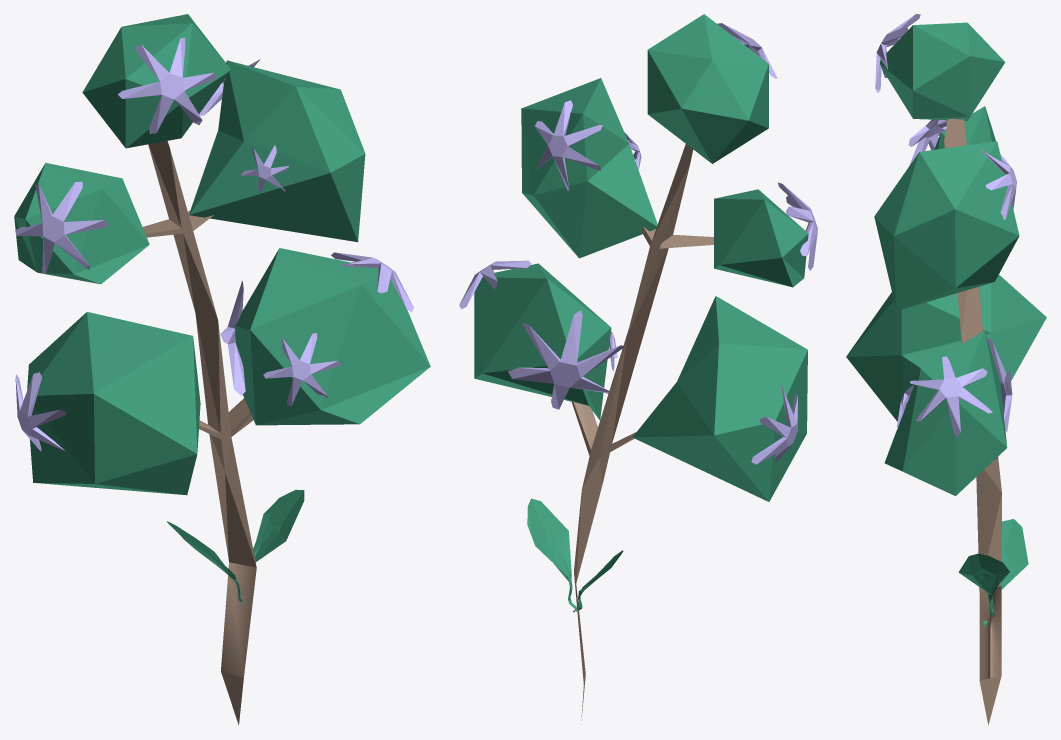
File: opt_Rosemary_Flower.fbx
3 views of the same model, side by side, from view 1: azimuth 30°, elevation 25°; view 2: azimuth 150°, elevation 25°; view 3: azimuth 270°, elevation 25° (orthographic). The views are drawn at different scales.
Visible parts, largest first — view 1: pPlane1; view 2: pPlane1; view 3: pPlane1.
Part boxes in pixels (left/top/right/bottom): pPlane1: left=14, top=14, right=430, bottom=725; pPlane1: left=459, top=14, right=817, bottom=720; pPlane1: left=846, top=14, right=1046, bottom=725.
Bounding box in the file's own units: 3.82 × 7.28 × 2.
